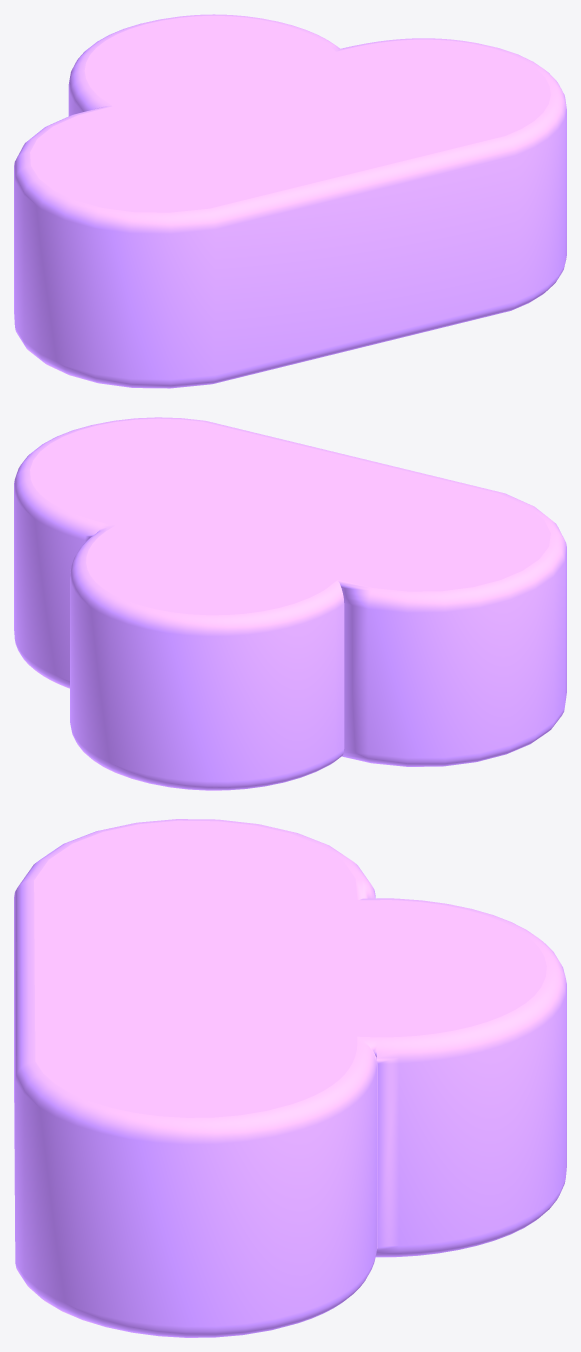
Rendered from r2drop-cloud.glb.
The picture shows the model from 3 angles, top to bottom: view 1: azimuth 30°, elevation 25°; view 2: azimuth 150°, elevation 25°; view 3: azimuth 270°, elevation 25°; orthographic projection. The views are drawn at different scales.
Parts seen in each view (by area): view 1: Curve; view 2: Curve; view 3: Curve.
Part boxes in pixels (x1=…): Curve: x1=14, y1=14, x2=566, y2=388; Curve: x1=14, y1=417, x2=566, y2=790; Curve: x1=14, y1=819, x2=566, y2=1337.
Size of the model in its own units: 2 by 0.6481 by 1.49.
